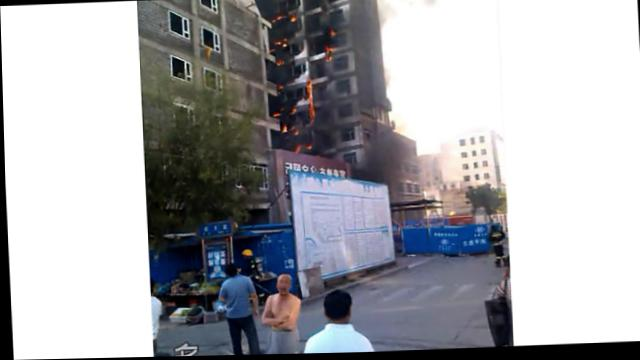fire: (308, 81, 314, 121), (275, 38, 287, 47), (276, 60, 286, 66), (303, 144, 313, 149), (290, 107, 297, 114), (327, 56, 334, 62), (292, 15, 298, 22), (294, 146, 301, 152), (282, 126, 287, 134), (273, 112, 281, 117), (327, 47, 336, 51), (276, 16, 285, 20), (332, 29, 337, 36), (277, 84, 284, 89), (294, 130, 299, 134)
